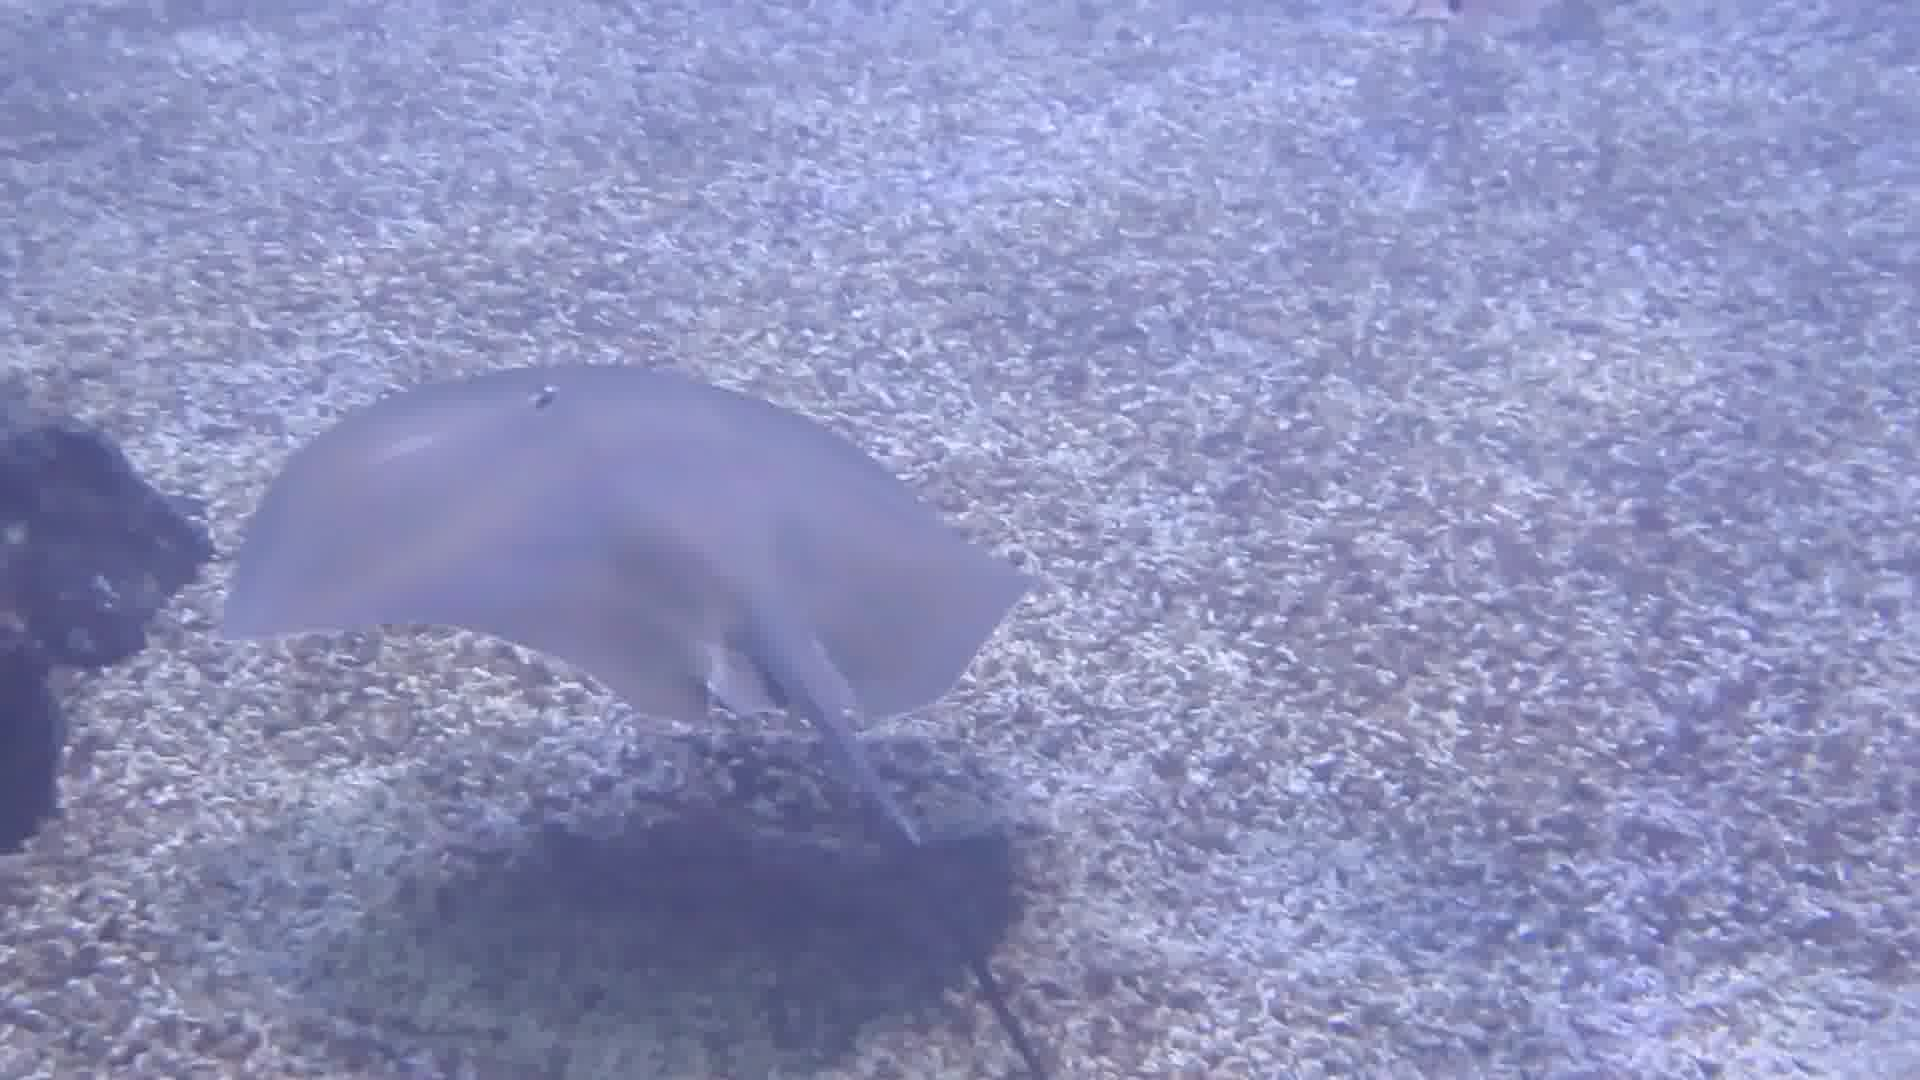Dasyatis akajei: (140, 135, 1101, 1071)
